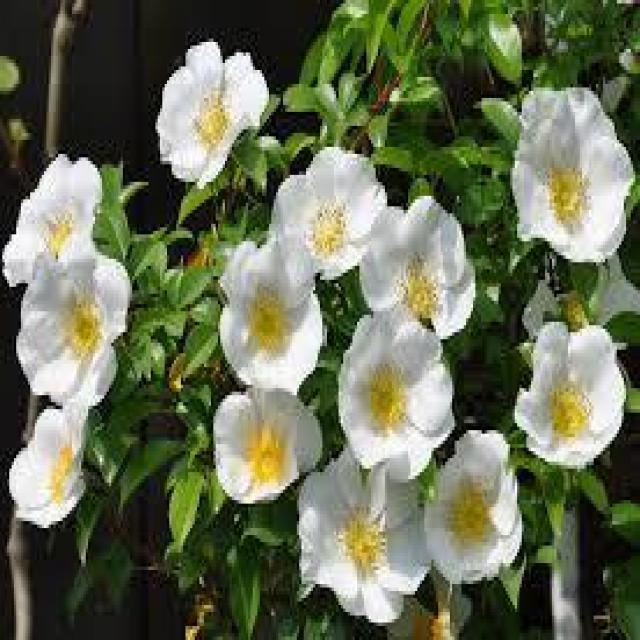organic waste: (290, 428, 447, 618), (335, 294, 460, 479), (511, 84, 632, 266), (268, 130, 398, 298), (15, 239, 140, 411), (504, 311, 630, 476), (354, 189, 481, 346), (213, 227, 327, 399), (404, 425, 528, 582), (151, 36, 283, 176), (209, 369, 329, 509), (7, 147, 109, 280), (10, 386, 101, 526)
